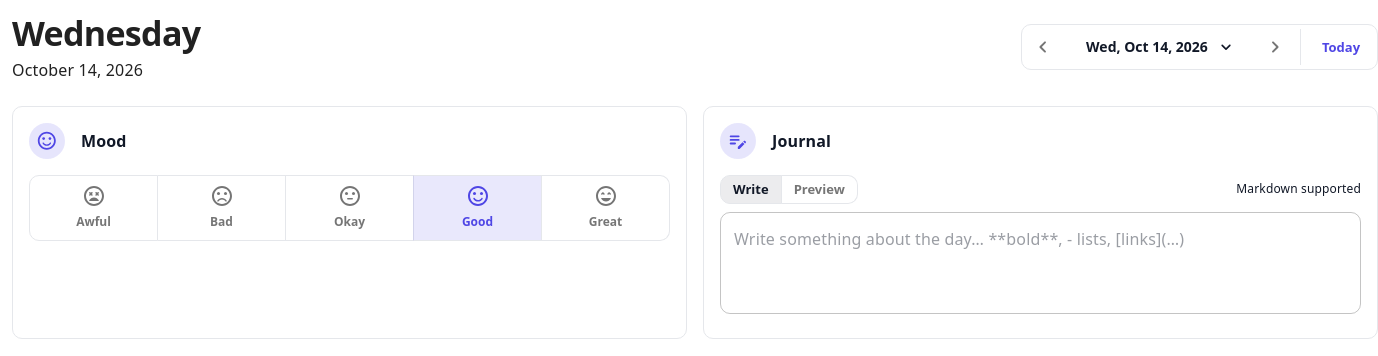
Test case: DailyDashboard › navigates to other days
Click the button named "Next day": (1275, 47) [1258, 30, 1292, 64]
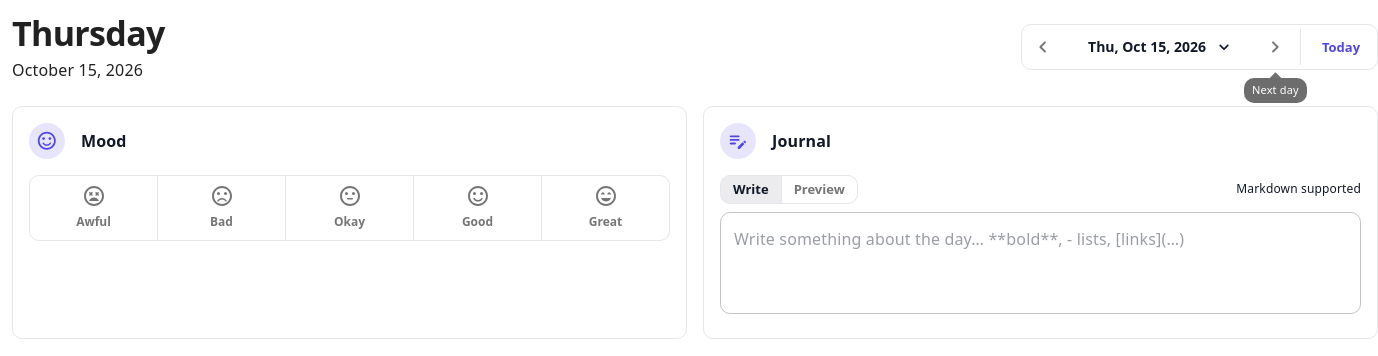
expect the heading "Thursday" is shown: met, box [12, 12, 165, 54]
